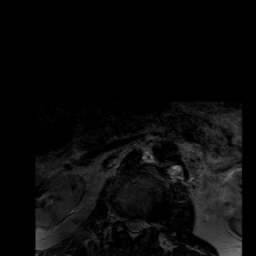CCS_normal: (130, 210, 138, 245)
LFS_stenosis: (147, 212, 155, 235)
LLS_normal: (138, 210, 147, 239)
RFS_stenosis: (114, 203, 122, 228)
RLS_normal: (122, 209, 130, 237)
